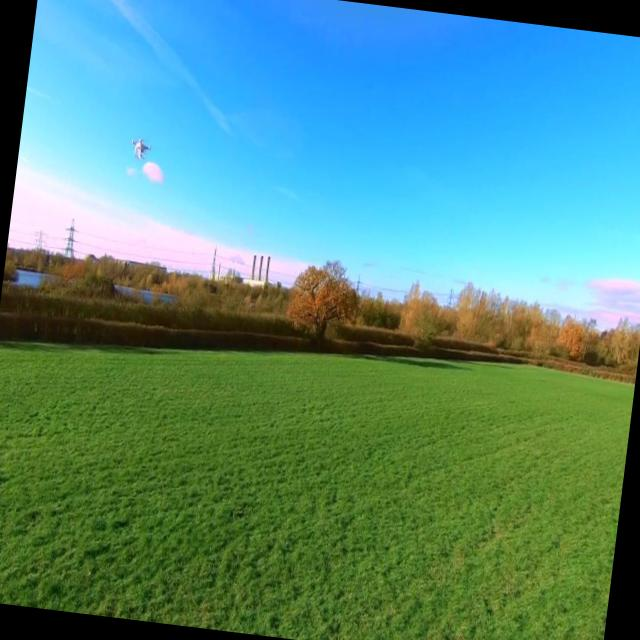drone: (124, 132, 156, 169)
